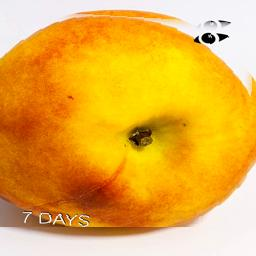Peach Fresh: (1, 9, 256, 227)
